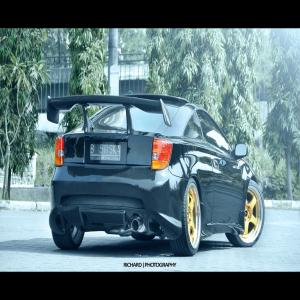Vehicle-registration-plate: (90, 142, 122, 162)
